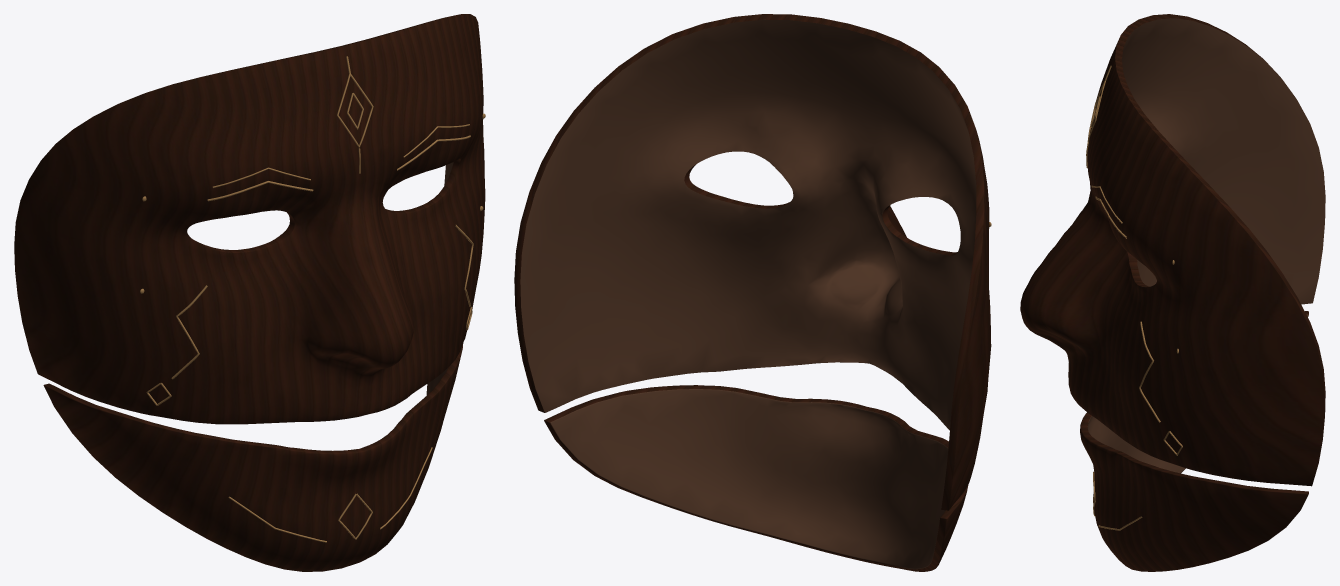
Rendered from masca_lemn.glb.
3 renders of one model, left to right at view 1: azimuth 30°, elevation 25°; view 2: azimuth 150°, elevation 25°; view 3: azimuth 270°, elevation 25°, orthographic. The views are drawn at different scales.
Parts seen in each view (by area): view 1: MaskShell, Jaw, BronzeInlays, JawInlays; view 2: MaskShell, Jaw; view 3: MaskShell, Jaw, BronzeInlays.
Boxes of the visible parts, <box> form: MaskShell: <box>14,14,485,424</box>; Jaw: <box>43,343,463,571</box>; BronzeInlays: <box>140,56,485,405</box>; JawInlays: <box>228,447,432,542</box>; MaskShell: <box>514,14,991,510</box>; Jaw: <box>544,385,968,571</box>; MaskShell: <box>1020,14,1325,486</box>; Jaw: <box>1080,311,1308,571</box>; BronzeInlays: <box>1086,65,1182,455</box>.
Size of the model in its own units: 0.1578 by 0.1782 by 0.0996.
3 materials, 1 textured.
